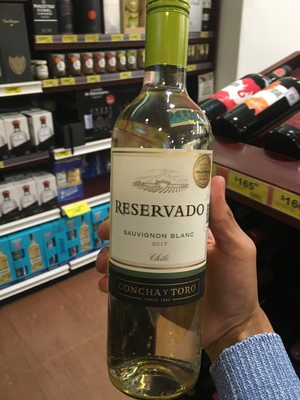reservado sauvignon blanc: (101, 22, 225, 385)
